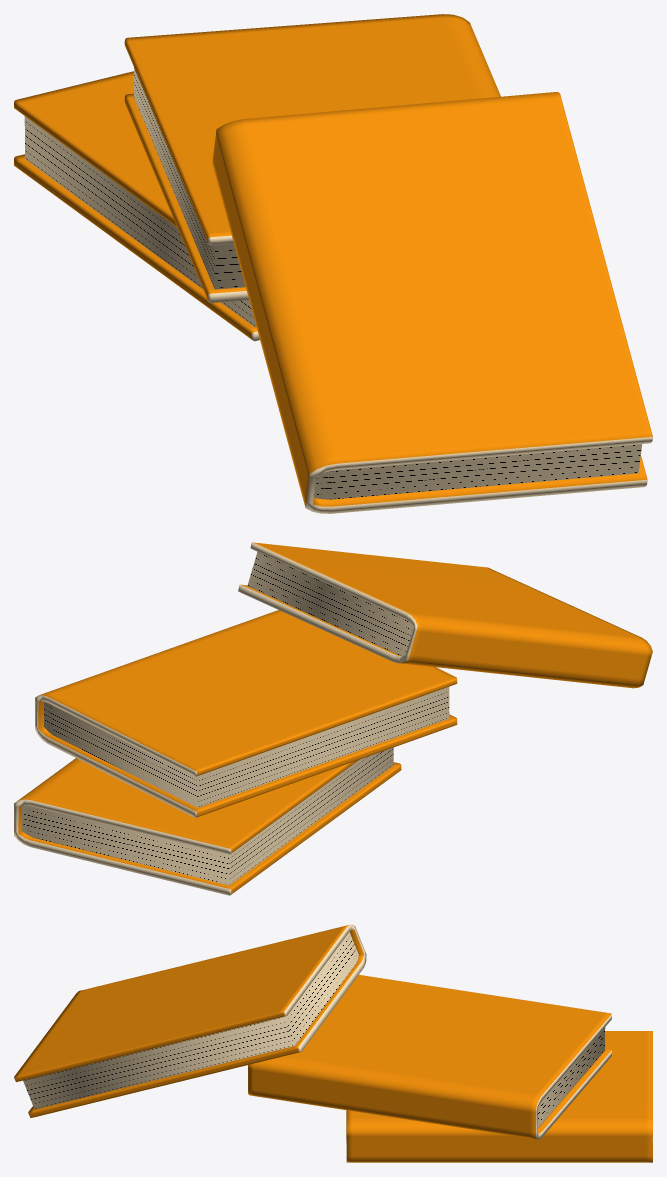
Rendered from books-three-orange.fbx.
3 views of the same model, one above another, from view 1: azimuth 30°, elevation 25°; view 2: azimuth 150°, elevation 25°; view 3: azimuth 270°, elevation 25° (orthographic). The views are drawn at different scales.
Visible parts, largest first — view 1: books_orange; view 2: books_orange; view 3: books_orange.
Boxes of the visible parts, x1,y1,x2,y2 form: books_orange: (14,14,652,513); books_orange: (14,542,652,895); books_orange: (14,924,652,1162).
Bounding box in the file's own units: 14.6 × 6.1 × 24.61.
Materials: 1 (1 with a texture image).
